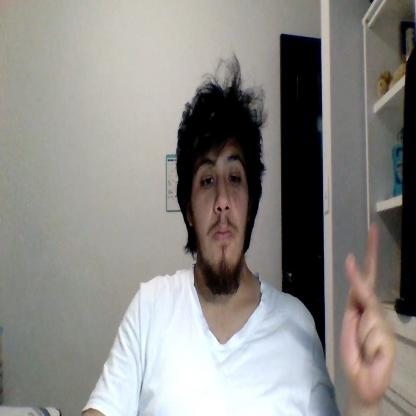P: (341, 221, 396, 402)
